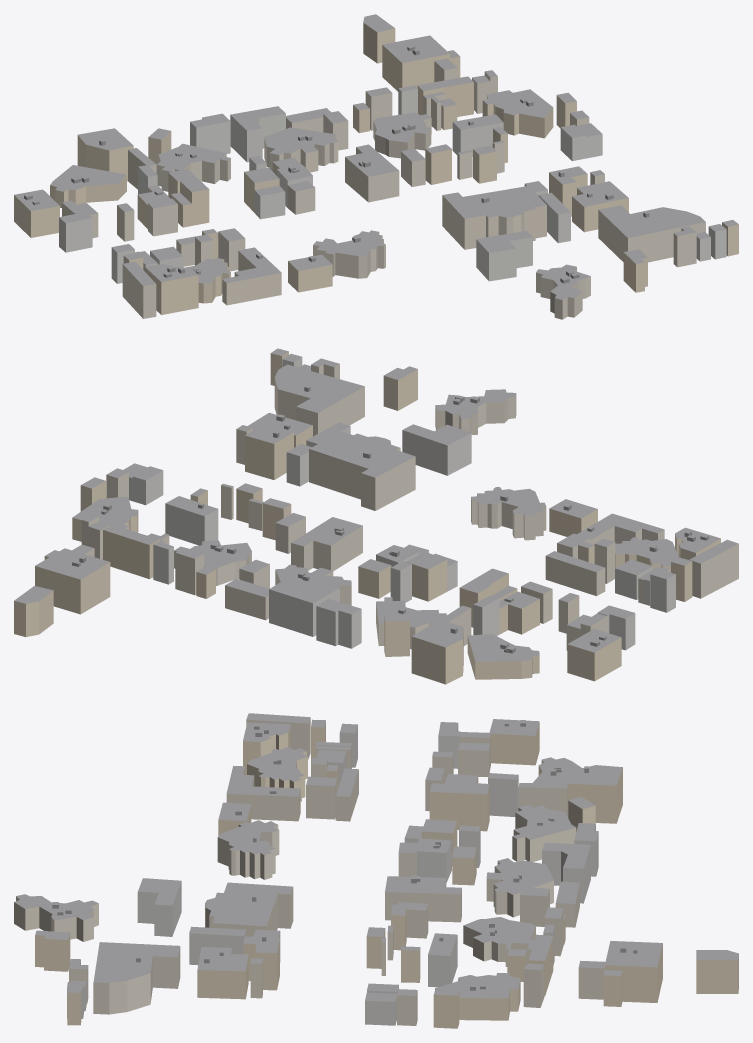
Rendered from building_4_-4.glb.
3 renders of one model, top to bottom at view 1: azimuth 30°, elevation 25°; view 2: azimuth 150°, elevation 25°; view 3: azimuth 270°, elevation 25°, orthographic. The views are drawn at different scales.
Visible parts, largest first — view 1: roof, concrete_warm, sandstone, concrete_light; view 2: roof, concrete_warm, sandstone, concrete_light; view 3: roof, concrete_warm, sandstone, concrete_light.
Part boxes in pixels (box(x1,y1,x2,y2)): roof: box(14, 14, 738, 299); concrete_warm: box(62, 61, 705, 319); sandstone: box(14, 23, 738, 314); concrete_light: box(59, 88, 726, 283); roof: box(14, 348, 738, 661); concrete_warm: box(81, 364, 738, 650); sandstone: box(14, 351, 720, 684); concrete_light: box(129, 357, 675, 650); roof: box(14, 713, 738, 1001); concrete_warm: box(14, 718, 604, 1025); sandstone: box(35, 721, 738, 1028); concrete_light: box(67, 724, 598, 1025).
Bounding box in the file's own units: 244 × 17.24 × 267.
